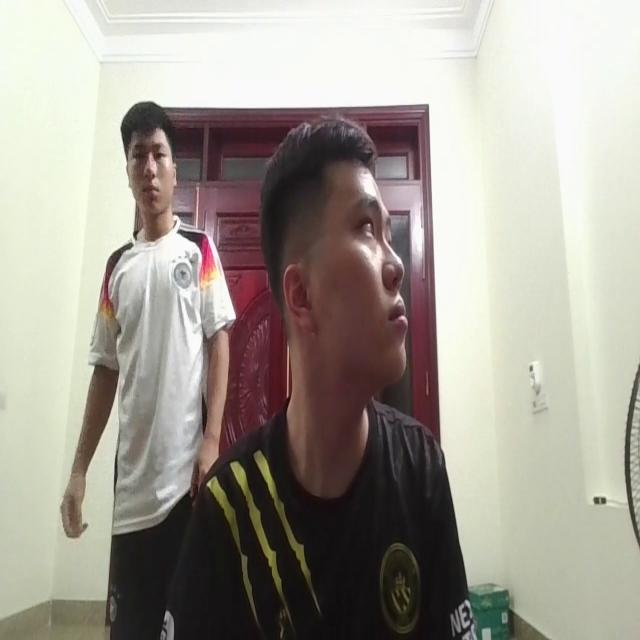extra_person: (51, 92, 230, 576)
student: (207, 108, 451, 640)
